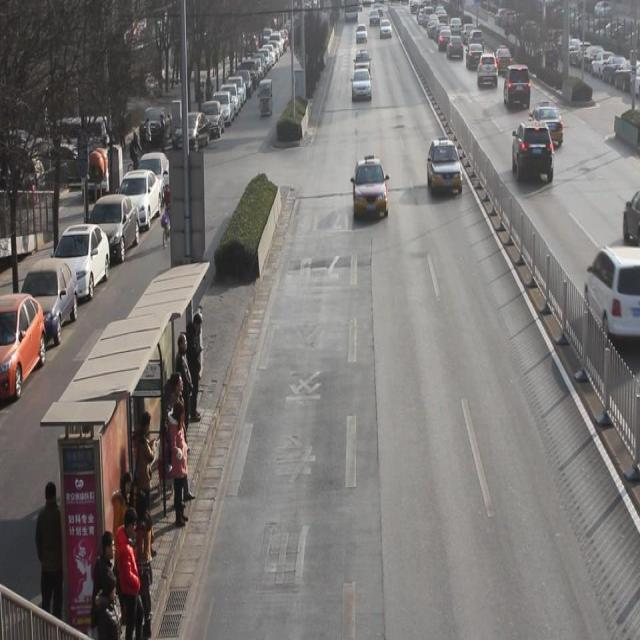car: (584, 243, 640, 342), (510, 123, 554, 188), (426, 137, 464, 198), (353, 156, 389, 219), (530, 100, 564, 150), (504, 65, 531, 113), (476, 53, 498, 89), (622, 196, 640, 240), (351, 70, 372, 102), (495, 44, 513, 73), (446, 35, 464, 60), (466, 45, 484, 68), (354, 50, 372, 72), (438, 28, 452, 54), (553, 39, 564, 65), (469, 29, 484, 47), (380, 19, 392, 41), (356, 25, 368, 46)
